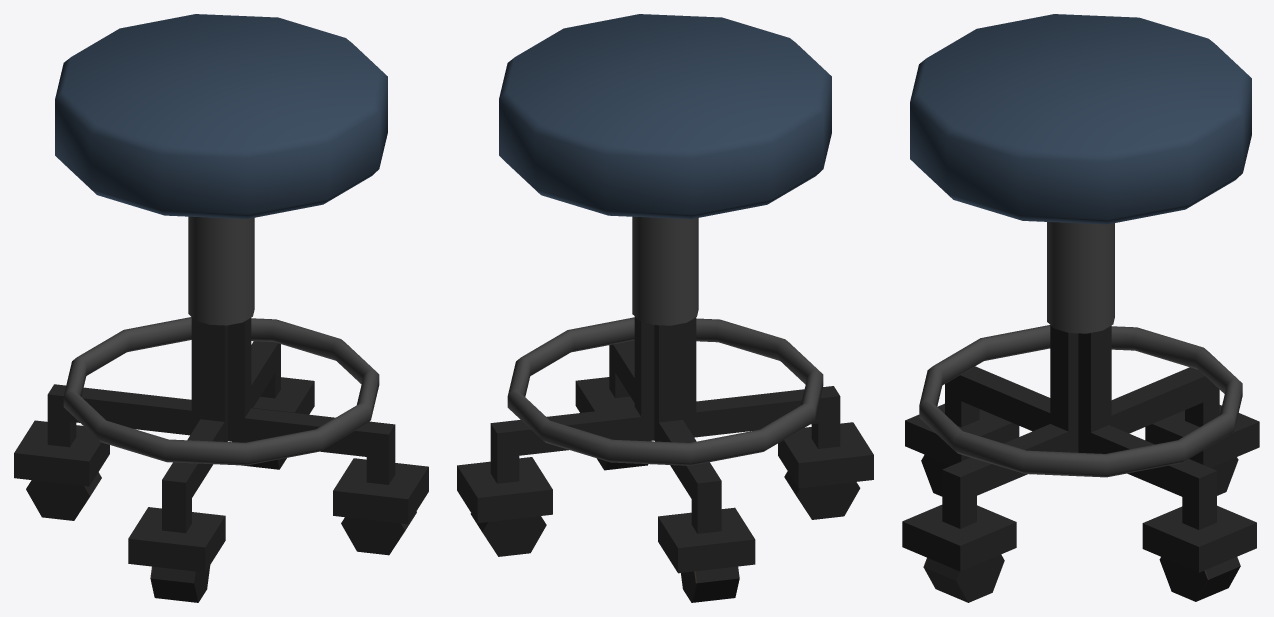
File: circular_chair.FBX
The picture shows the model from 3 angles, left to right: view 1: azimuth 30°, elevation 25°; view 2: azimuth 150°, elevation 25°; view 3: azimuth 270°, elevation 25°; orthographic projection. The views are drawn at different scales.
Parts seen in each view (by area): view 1: circular; view 2: circular; view 3: circular.
Part boxes in pixels (box(x1,y1,x2,y2)): circular: box(14, 14, 428, 602); circular: box(457, 14, 873, 602); circular: box(902, 14, 1259, 602).
Size of the model in its own units: 40.74 by 57.58 by 40.74.
1 material, 1 textured.
